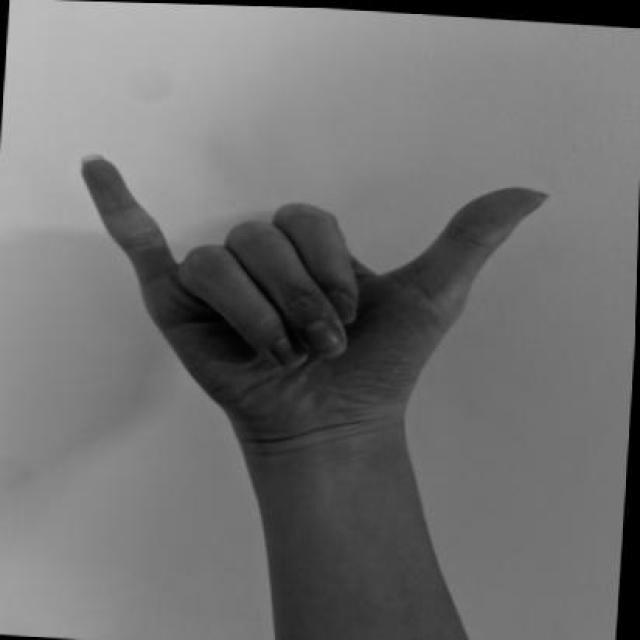Y: (58, 149, 556, 455)
